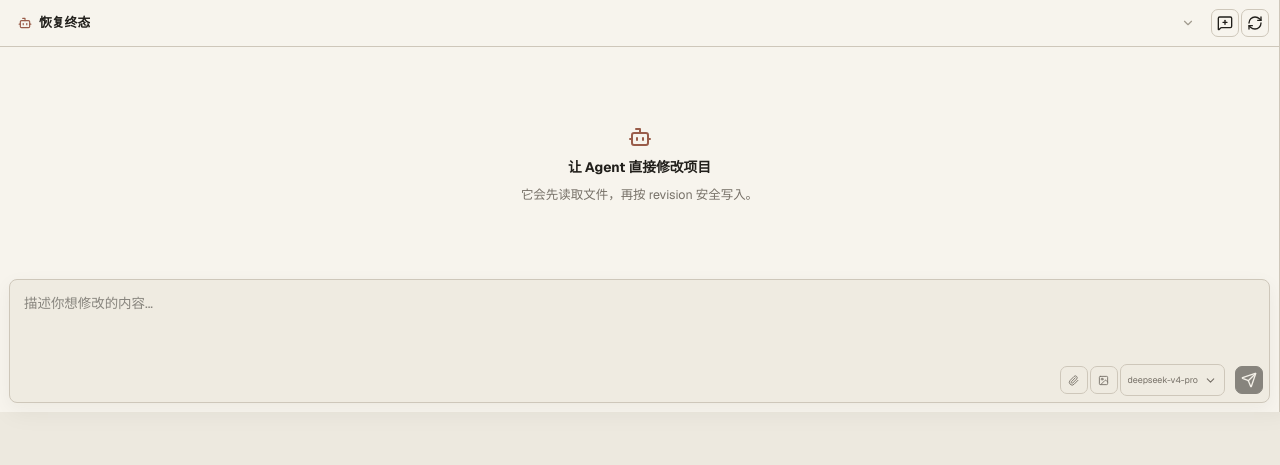
Test case: AgentPanel › 创建 Run 失败时撤回乐观消息并恢复原输入
Type "保留这条消息" into the text box named "给 Agent 的消息" at (640, 323), box 16,286 -> 1263,360
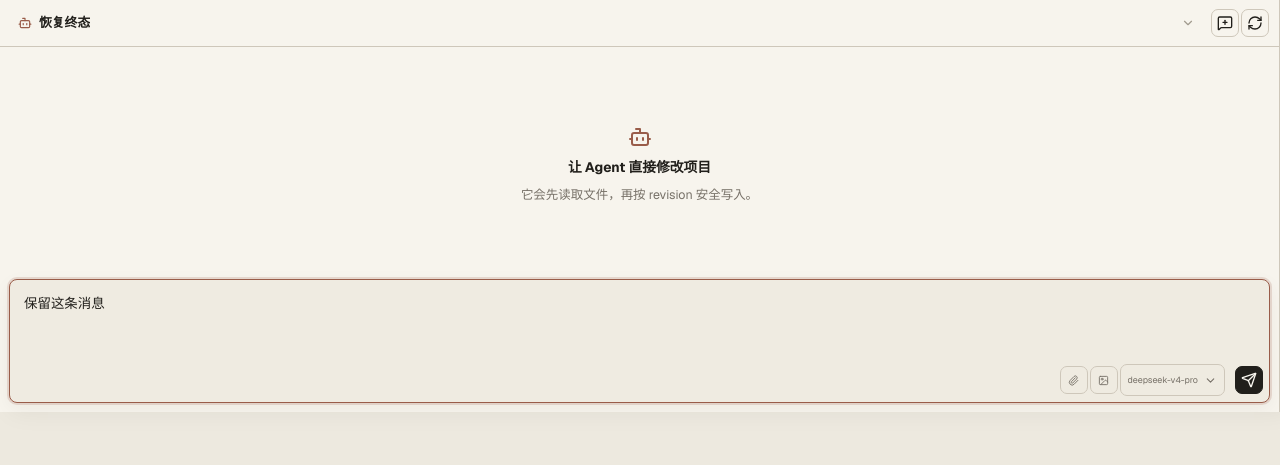
Click the button named "发送消息" at (1249, 380), box 1235,366 -> 1263,394
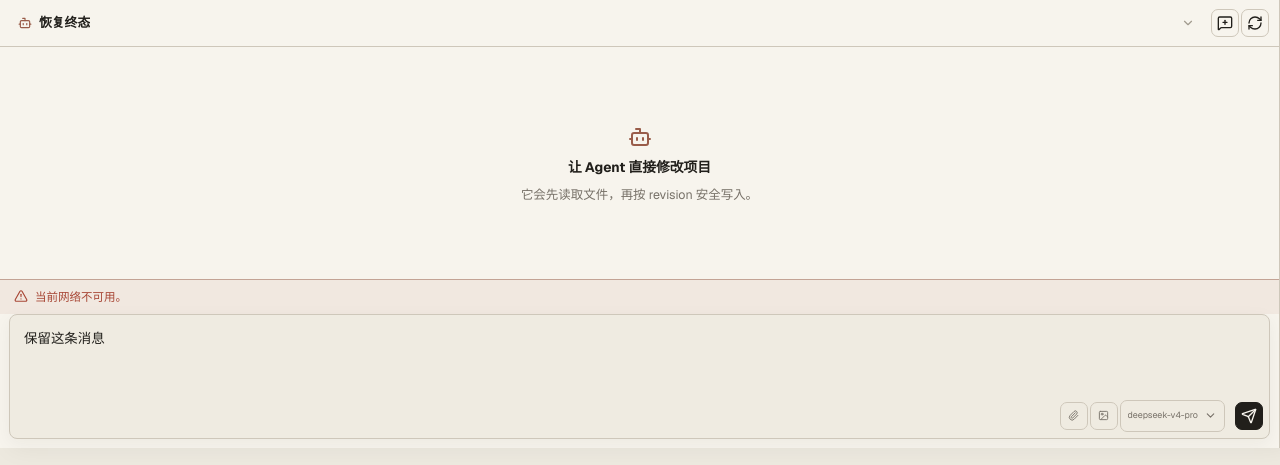
Result: the message reads "当前网络不可用。" at 35,289 -> 127,304
